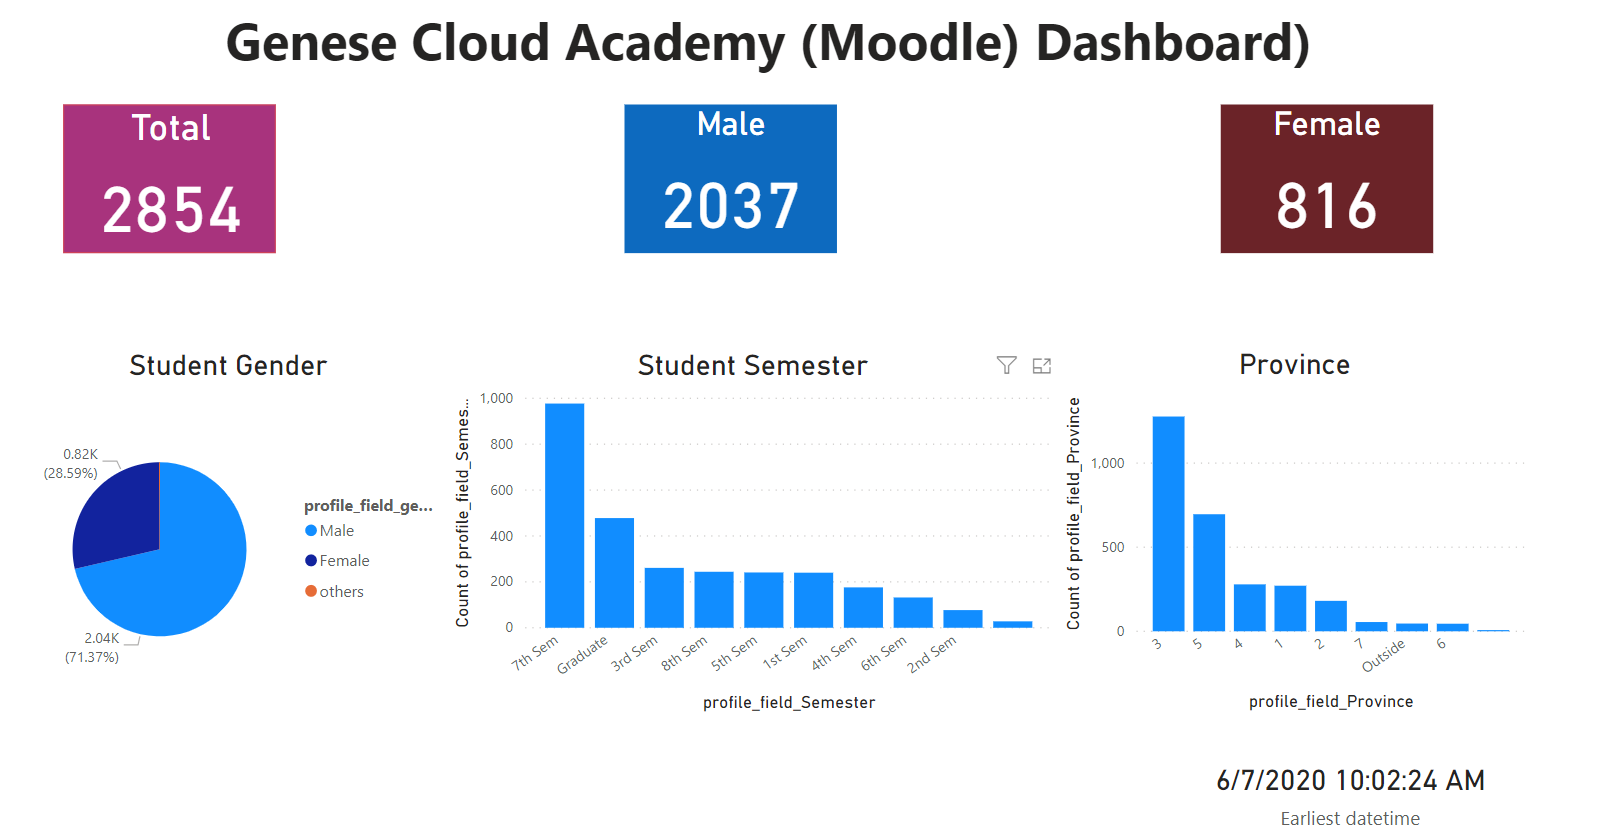

Layout of this report page (visuals, bound fields, positions):
{"tool":"powerbi","page":{"name":"Dashboard","canvas":[1280,720],"ordinal":0},"visuals":[{"type":"pieChart","title":"Student Gender","fields":{"Category":["user_latest.profile_field_gender1"],"Series":["user_latest.profile_field_gender1"],"Y":["CountNonNull(user_latest.profile_field_gender)"]},"box":[2.1,303.2,367.2,310.5],"z":0},{"type":"columnChart","title":"Student Semester","fields":{"Category":["user_latest.profile_field_Semester1"],"Y":["CountNonNull(user_latest.profile_field_Semester)1"]},"box":[369.4,303.2,513.4,310.5],"z":1000},{"type":"columnChart","title":"Province","fields":{"Category":["user_latest.profile_field_Province1"],"Y":["CountNonNull(user_latest.profile_field_Province)1"]},"box":[882.3,302.7,397.4,310.5],"z":2000},{"type":"card","title":"Total","fields":{"Values":["CountNonNull(user_latest.id)"]},"box":[47.1,98.8,178.8,124.4],"z":3000},{"type":"card","title":"Male","fields":{"Values":["CountNonNull(user_latest.profile_field_gender)"]},"box":[518.2,98.8,178.8,124.4],"z":4000},{"type":"card","title":"Female","fields":{"Values":["CountNonNull(user_latest.profile_field_gender)"]},"box":[1019.5,98.8,178.8,124.4],"z":5000},{"type":"textbox","box":[0,10.9,1279.3,72.5],"z":6000},{"type":"card","fields":{"Values":["Min(Kathmandu.datetime)"]},"box":[994.2,641.5,268.2,68.9],"z":7000}]}

Visuals, with their boxes on the page's 1280x720 design canvas (x1, y1, x2, y2). These are canvas units, not pixel positions in the 1601x836 screenshot, which may show the page scaled, cropped or inside an application window:
"Student Gender" pieChart: Rect(2, 303, 369, 614)
"Student Semester" columnChart: Rect(369, 303, 883, 614)
"Province" columnChart: Rect(882, 303, 1280, 613)
"Total" card: Rect(47, 99, 226, 223)
"Male" card: Rect(518, 99, 697, 223)
"Female" card: Rect(1020, 99, 1198, 223)
textbox: Rect(0, 11, 1279, 83)
card - Min(Kathmandu.datetime): Rect(994, 642, 1262, 710)
